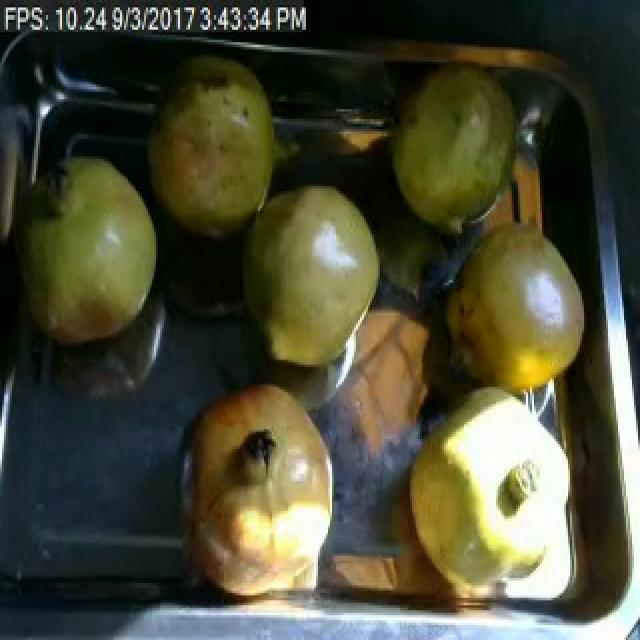fruit: (166, 362, 352, 605), (392, 367, 572, 598), (0, 142, 168, 367), (436, 201, 590, 417), (234, 176, 390, 387), (138, 49, 290, 246), (386, 55, 528, 243)
